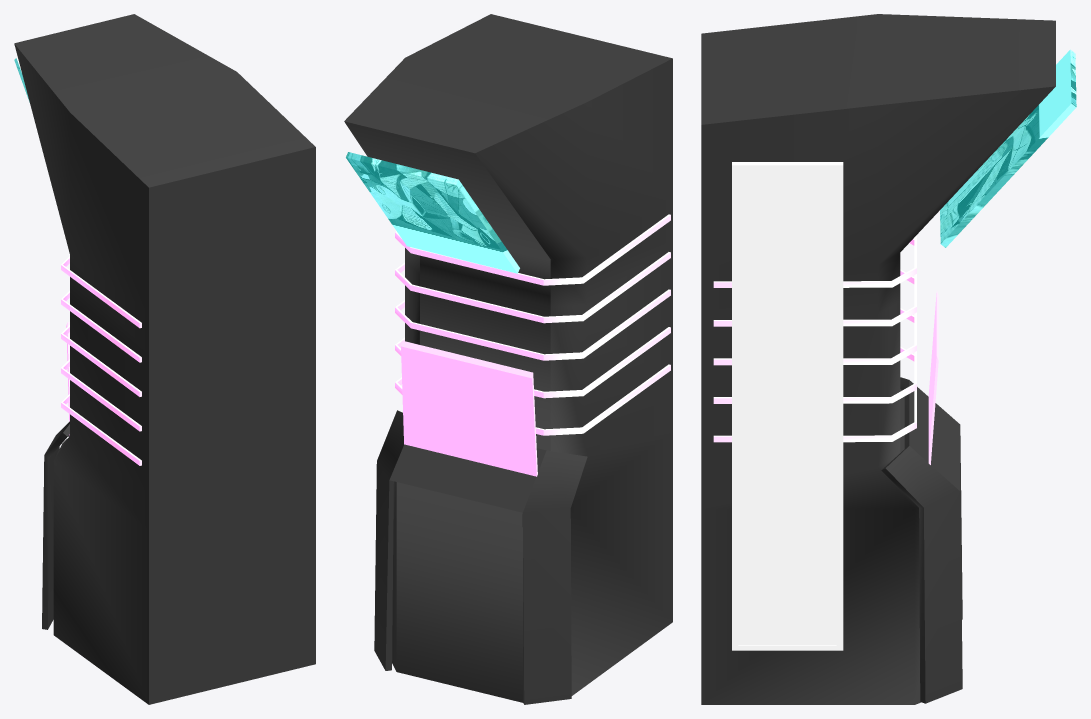
Rendered from mainBuilding.gltf.
The picture shows the model from 3 angles, left to right: view 1: azimuth 30°, elevation 25°; view 2: azimuth 150°, elevation 25°; view 3: azimuth 270°, elevation 25°; orthographic projection. The views are drawn at different scales.
Visible parts, largest first — view 1: polySurface10; view 2: polySurface10; view 3: polySurface10.
Part boxes in pixels (box(x1,y1,x2,y2)): polySurface10: box(14, 14, 315, 704); polySurface10: box(344, 14, 672, 704); polySurface10: box(701, 14, 1076, 704).
Bounding box in the file's own units: 0.1387 × 0.3846 × 0.2159.
Materials: 4 (1 with a texture image).
